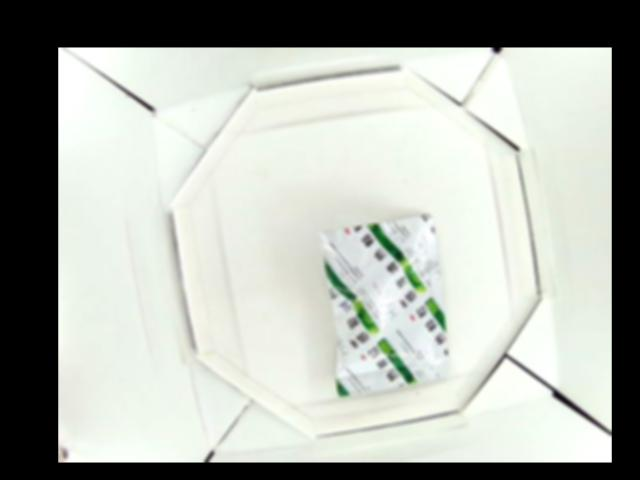Medicine: (320, 210, 453, 399)
